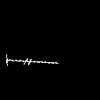treble_crochet: (6, 59, 56, 64)
